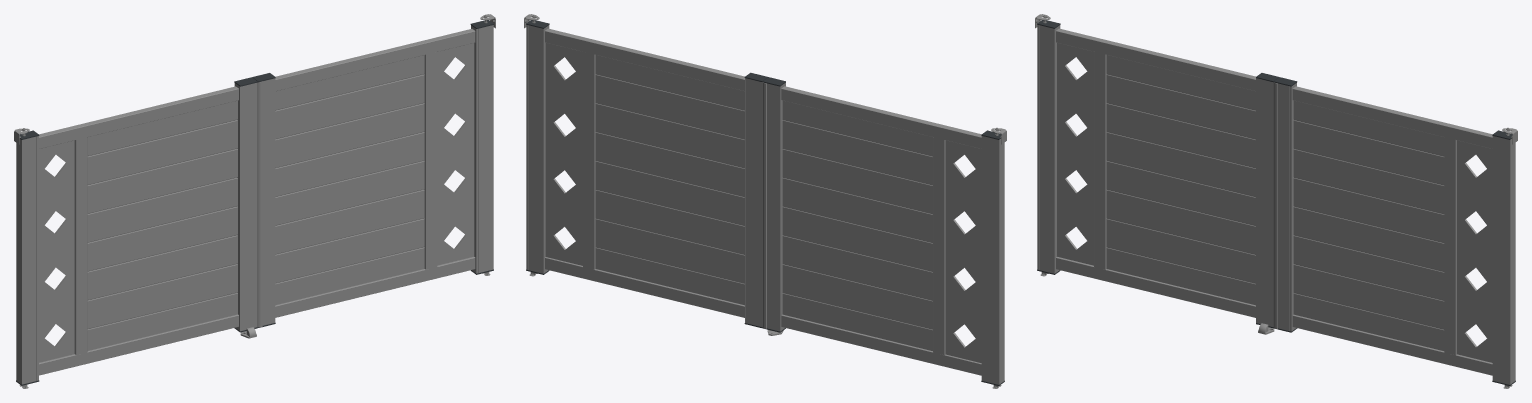
3 renders of one model, left to right at view 1: azimuth 30°, elevation 25°; view 2: azimuth 150°, elevation 25°; view 3: azimuth 330°, elevation 25°, orthographic.
Parts seen in each view (by area): view 1: losange002, losange, Shape107412643, Shape107412644, Shape107412971, Shape107411702, Shape107412974, Shape107412975, Shape107412976, Shape107412978, Shape107412977, Shape107412986 (+17 smaller); view 2: losange002, losange, Shape107412643, Shape107412971, Shape107411702, Shape107412974, Shape107412975, Shape107412976, Shape107412977, Shape107412978, Shape107412987, Shape107412988 (+17 smaller); view 3: losange, losange002, Shape107412971, Shape107412643, Shape107412983, Shape107412985, Shape107412986, Shape107412987, Shape107412989, Shape107412988, Shape107412975, Shape107412976 (+17 smaller).
Boxes of the visible parts, left/top/right/bottom form: losange002: left=437, top=43, right=474, bottom=265; losange: left=39, top=140, right=74, bottom=362; Shape107412643: left=16, top=136, right=38, bottom=384; Shape107412644: left=234, top=83, right=257, bottom=331; Shape107412971: left=471, top=25, right=493, bottom=273; Shape107411702: left=87, top=119, right=237, bottom=184; Shape107412974: left=87, top=148, right=237, bottom=213; Shape107412975: left=87, top=177, right=237, bottom=242; Shape107412976: left=87, top=206, right=237, bottom=271; Shape107412978: left=87, top=263, right=237, bottom=328; Shape107412977: left=87, top=235, right=237, bottom=299; Shape107412986: left=275, top=131, right=424, bottom=196; losange002: left=545, top=43, right=582, bottom=265; losange: left=945, top=140, right=981, bottom=362; Shape107412643: left=981, top=136, right=1004, bottom=384; Shape107412971: left=526, top=24, right=549, bottom=273; Shape107411702: left=782, top=119, right=932, bottom=184; Shape107412974: left=782, top=148, right=932, bottom=213; Shape107412975: left=782, top=177, right=932, bottom=242; Shape107412976: left=782, top=206, right=932, bottom=271; Shape107412977: left=782, top=235, right=932, bottom=300; Shape107412978: left=782, top=264, right=932, bottom=328; Shape107412987: left=595, top=160, right=744, bottom=225; Shape107412988: left=595, top=189, right=744, bottom=254; losange: left=1057, top=43, right=1093, bottom=265; losange002: left=1457, top=140, right=1492, bottom=362; Shape107412971: left=1492, top=136, right=1515, bottom=384; Shape107412643: left=1037, top=24, right=1060, bottom=273; Shape107412983: left=1293, top=119, right=1444, bottom=184; Shape107412985: left=1293, top=148, right=1444, bottom=213; Shape107412986: left=1293, top=177, right=1444, bottom=242; Shape107412987: left=1293, top=206, right=1444, bottom=271; Shape107412989: left=1293, top=264, right=1444, bottom=328; Shape107412988: left=1293, top=235, right=1444, bottom=300; Shape107412975: left=1106, top=131, right=1255, bottom=196; Shape107412976: left=1106, top=160, right=1255, bottom=225.
Bounding box in the file's own units: 3259 × 1693 × 116.
Materials: 8 (2 with a texture image).
